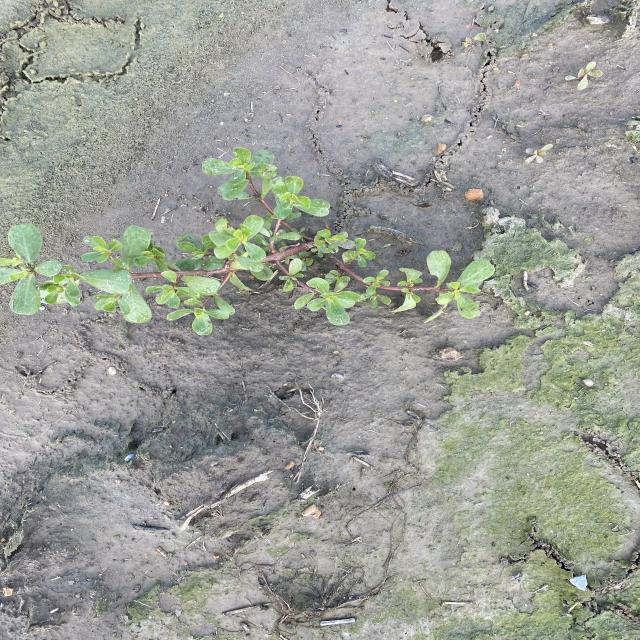Purslane: (2, 146, 497, 337)
